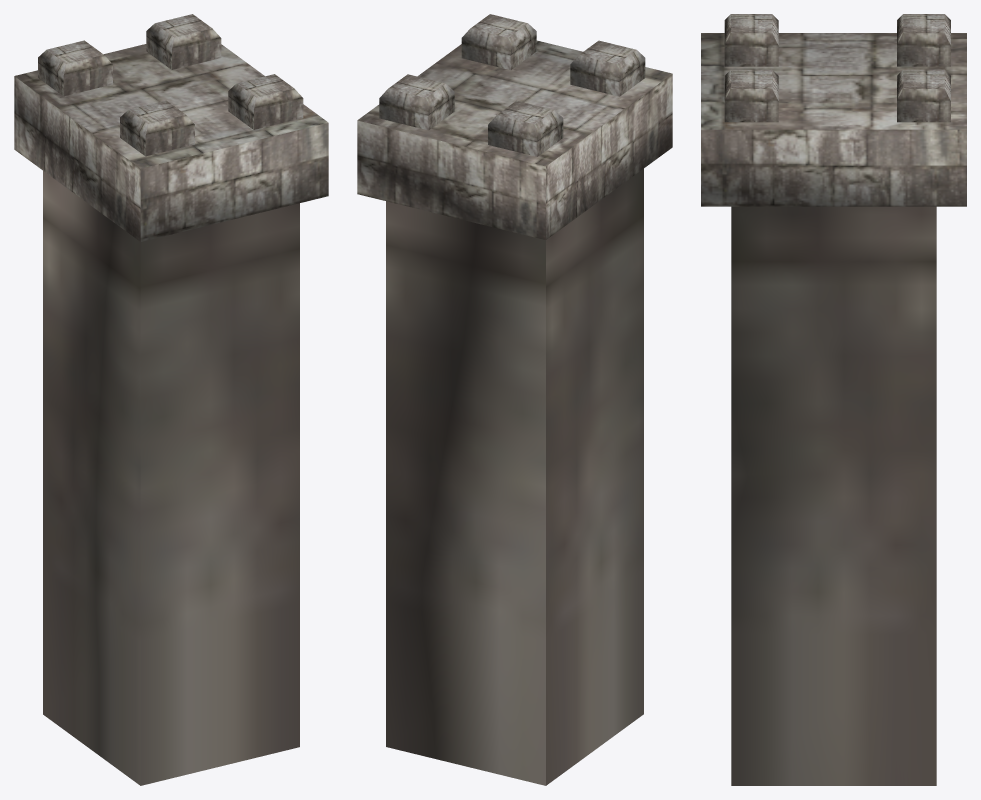
Rendered from pillar.glb.
3 views of the same model, side by side, from view 1: azimuth 30°, elevation 25°; view 2: azimuth 150°, elevation 25°; view 3: azimuth 270°, elevation 25° (orthographic). The views are drawn at different scales.
Visible parts, largest first — view 1: pillar; view 2: pillar; view 3: pillar.
Boxes of the visible parts, x1=… form: pillar: x1=14, y1=14, x2=328, y2=785; pillar: x1=357, y1=14, x2=672, y2=785; pillar: x1=701, y1=14, x2=966, y2=785.
Bounding box in the file's own units: 5.89 × 19.75 × 6.86.
Materials: 2 (2 with a texture image).
